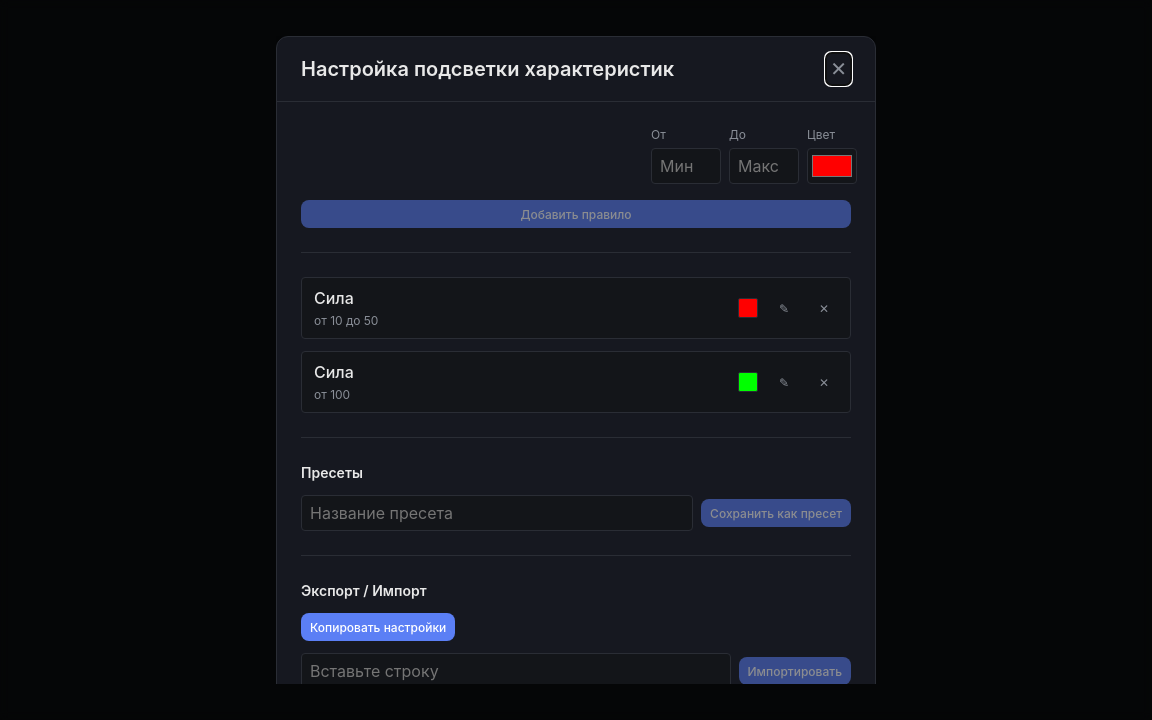
Test: AttributeColorSettingsModal — редактирование правил › при клике на кнопку редактирования заполняет форму данными правила
Click the button named "Редактировать".
click(784, 308)  # box [770,294,798,322]
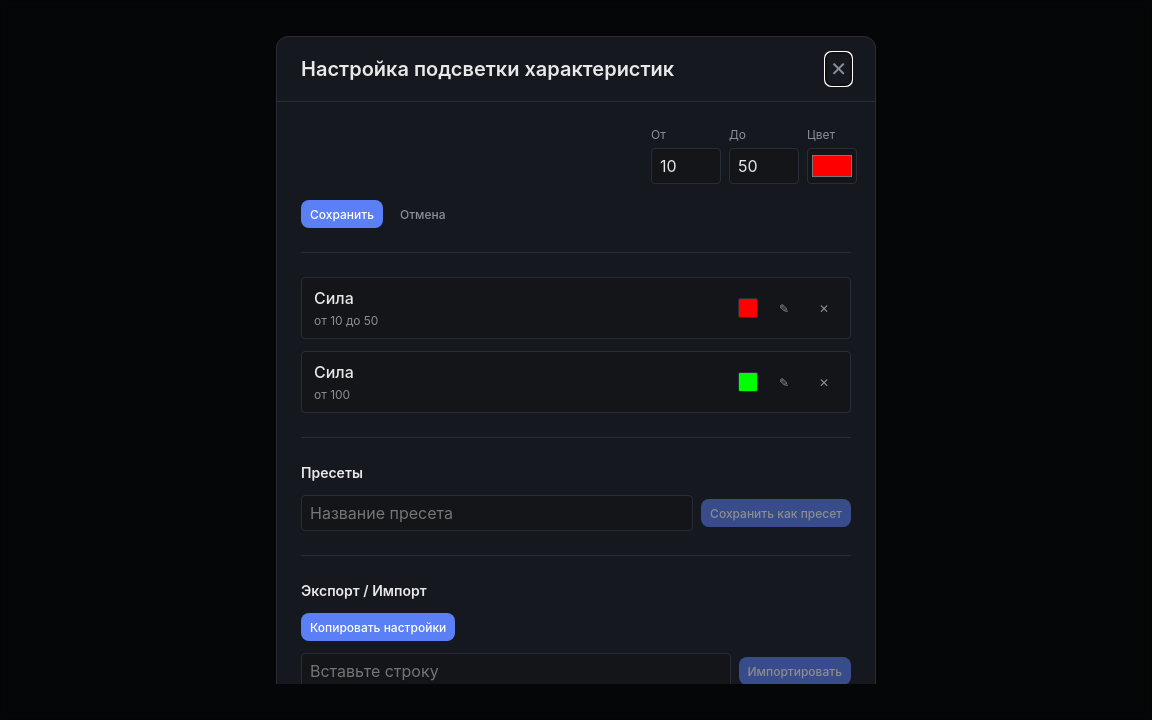
expect the 1st number field with placeholder "Мин" holds "10": met, box [651,148,721,184]
expect the 2nd number field with placeholder "Макс" holds "50": met, box [729,148,799,184]
